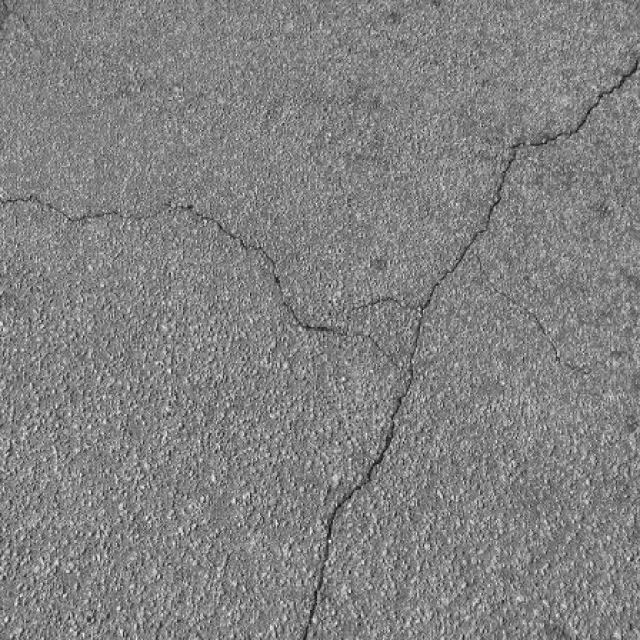Crack: (349, 61, 639, 433), (0, 198, 424, 376), (305, 488, 359, 638), (362, 436, 392, 488)
